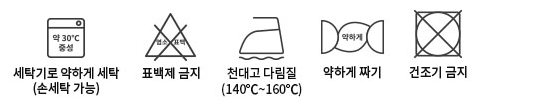KR_gentle_wring: (315, 13, 391, 61)
KR_no_chlorine_bleach: (142, 11, 198, 62)
KR_no_tumble_dry: (410, 7, 466, 61)
KR_wash_warm_30_neutral: (39, 12, 91, 61)
